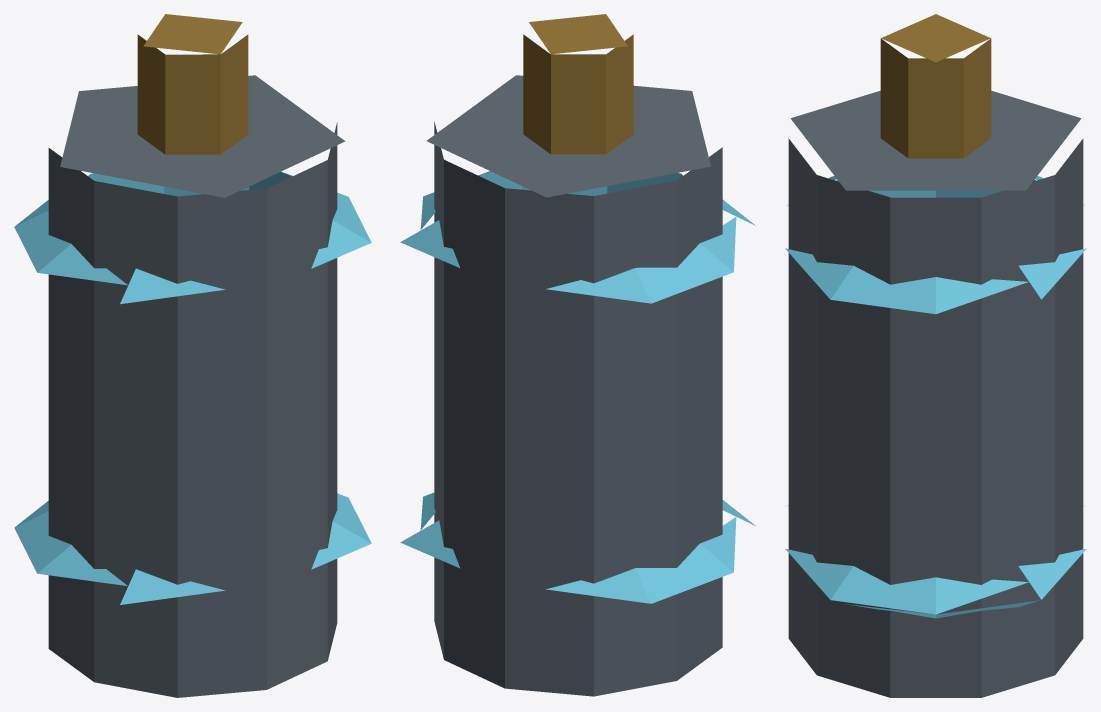
Rendered from mod-cell.lod.glb.
The picture shows the model from 3 angles, left to right: view 1: azimuth 30°, elevation 25°; view 2: azimuth 150°, elevation 25°; view 3: azimuth 270°, elevation 25°; orthographic projection.
Parts seen in each view (by area): view 1: m; view 2: m; view 3: m.
Boxes of the visible parts, bbox=[...] form: m: bbox=[14, 14, 371, 697]; m: bbox=[400, 14, 755, 696]; m: bbox=[785, 14, 1086, 697].
Size of the model in its own units: 0.0325 by 0.06 by 0.0273.
